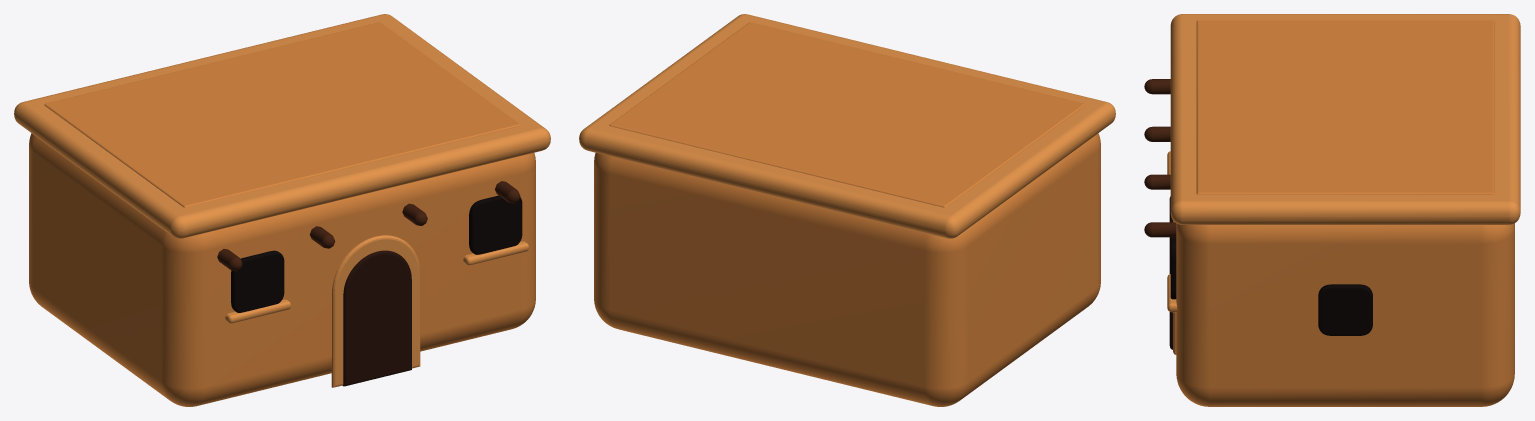
File: adobe_c.glb
3 renders of one model, left to right at view 1: azimuth 30°, elevation 25°; view 2: azimuth 150°, elevation 25°; view 3: azimuth 270°, elevation 25°, orthographic. The views are drawn at different scales.
Parts seen in each view (by area): view 1: adobe_c; view 2: adobe_c; view 3: adobe_c.
Boxes of the visible parts, box(x1,y1,x2,y2) form: adobe_c: box(14, 14, 550, 406); adobe_c: box(579, 14, 1115, 406); adobe_c: box(1144, 14, 1520, 406).
Size of the model in its own units: 6.34 by 3 by 4.66.
